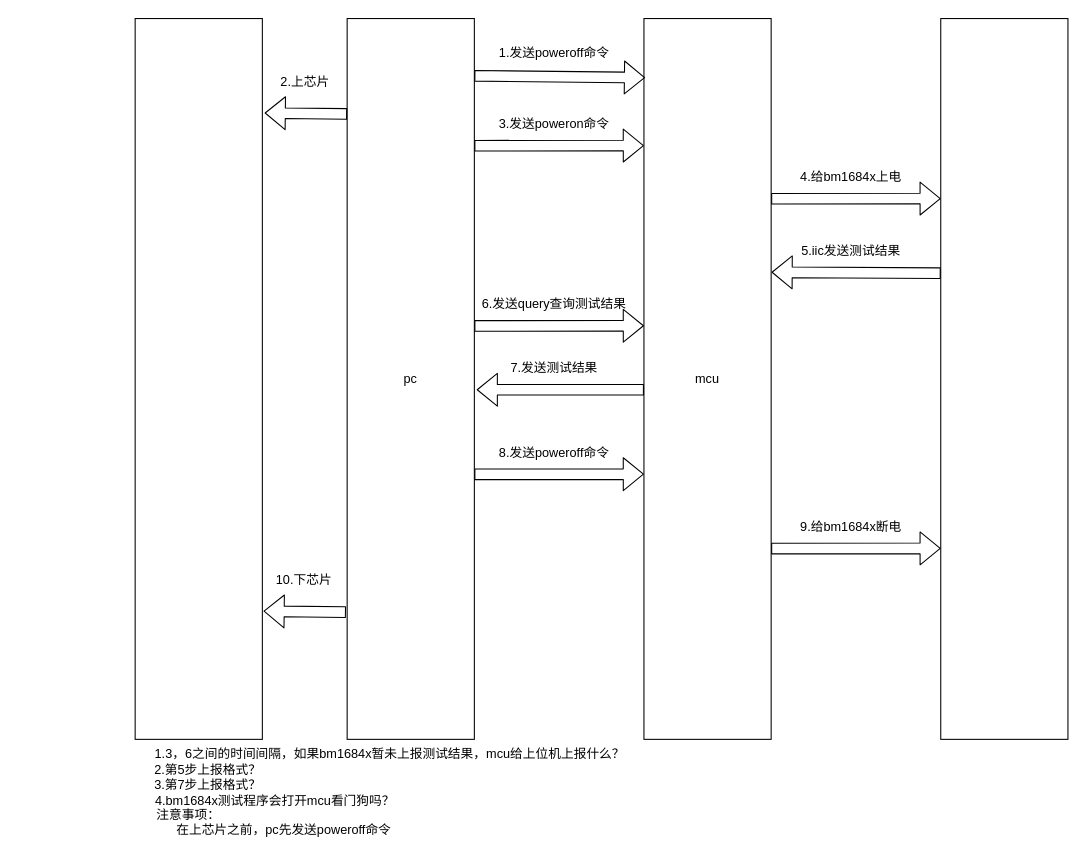
Image size: 1087x859. Some labels were removed from this diagram. The shapes that lost their labels are listed below. From the top down, each one's centre as x and y in pixels, then its label:
the point at 198,378: handler
the point at 1004,378: bm1684x
